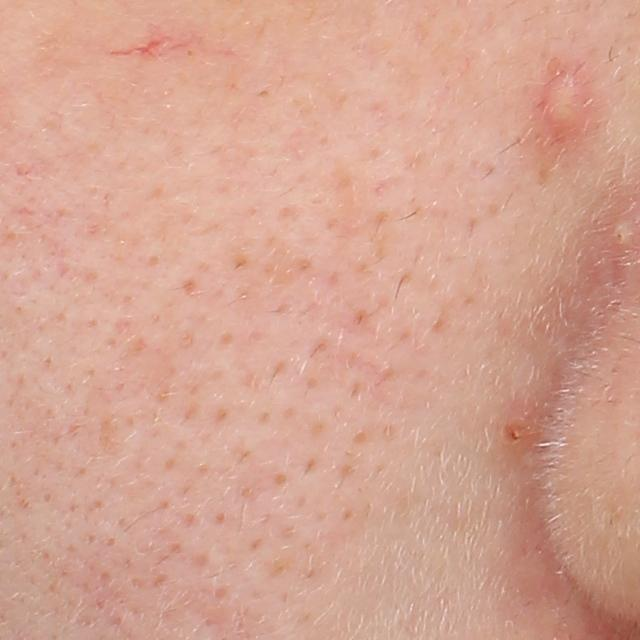papule: (538, 74, 590, 146)
